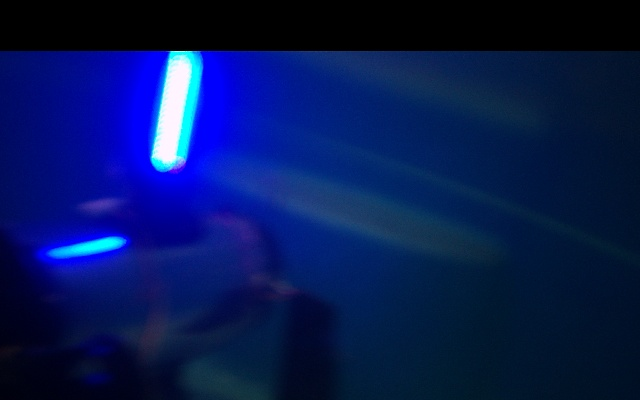blue: (146, 53, 205, 172)
